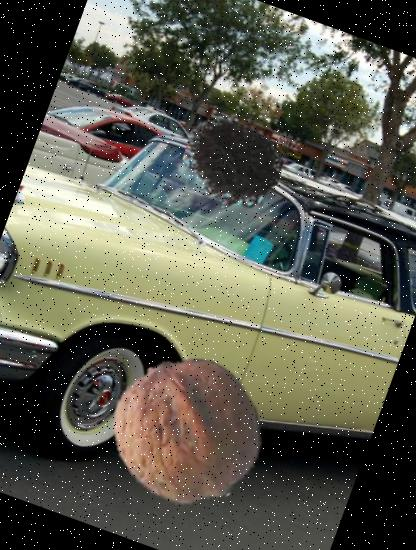Rambutan: (168, 100, 294, 227)
Walnut: (92, 336, 284, 528)
